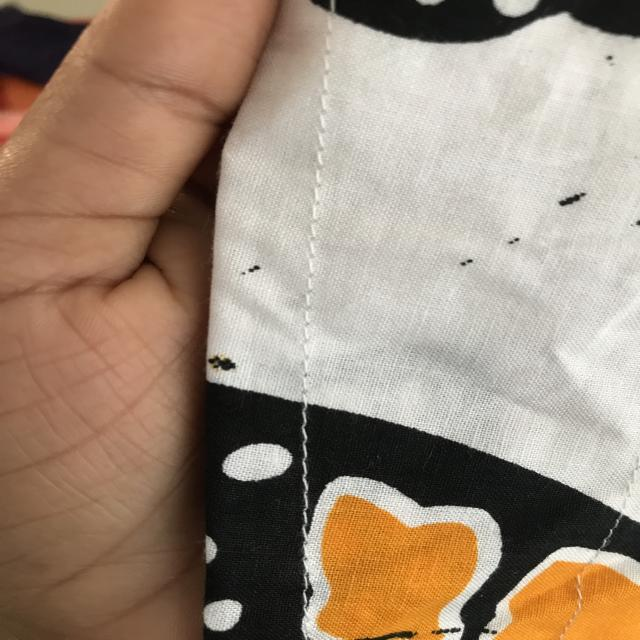good: (309, 127, 340, 227), (292, 413, 323, 497)
